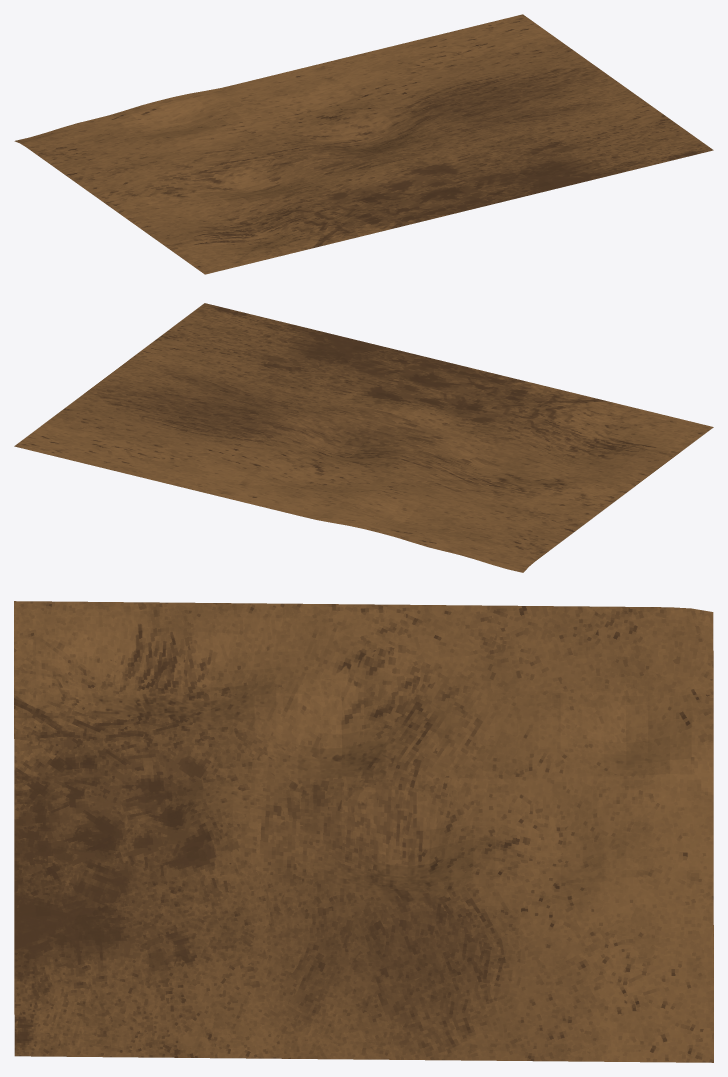
Rendered from flor.fbx.
3 views of the same model, one above another, from view 1: azimuth 30°, elevation 25°; view 2: azimuth 150°, elevation 25°; view 3: azimuth 270°, elevation 25° (orthographic). The views are drawn at different scales.
Parts seen in each view (by area): view 1: 平面.008; view 2: 平面.008; view 3: 平面.008.
Boxes of the visible parts, x1=… form: 平面.008: x1=14, y1=14, x2=713, y2=274; 平面.008: x1=14, y1=303, x2=713, y2=572; 平面.008: x1=14, y1=601, x2=713, y2=1062.
Size of the model in its own units: 7870 by 223 by 5113.
1 material, 1 textured.
